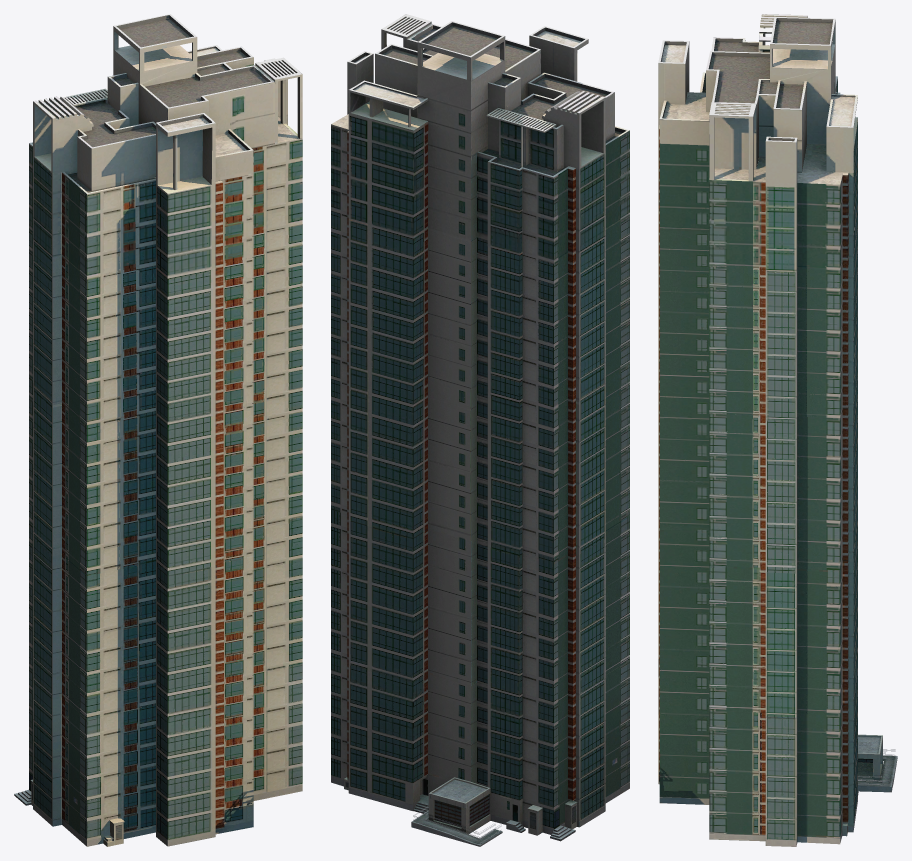
3 renders of one model, left to right at view 1: azimuth 30°, elevation 25°; view 2: azimuth 150°, elevation 25°; view 3: azimuth 270°, elevation 25°, orthographic.
Visible parts, largest first — view 1: Node_cc0600c5-2266-4843-bdce-ce5ddbbadb8f_0_5, Node_cc0600c5-2266-4843-bdce-ce5ddbbadb8f_0_3, Node_cc0600c5-2266-4843-bdce-ce5ddbbadb8f_0_4, Node_cc0600c5-2266-4843-bdce-ce5ddbbadb8f_0_2, Node_cc0600c5-2266-4843-bdce-ce5ddbbadb8f_0_1; view 2: Node_cc0600c5-2266-4843-bdce-ce5ddbbadb8f_0_5, Node_cc0600c5-2266-4843-bdce-ce5ddbbadb8f_0_3, Node_cc0600c5-2266-4843-bdce-ce5ddbbadb8f_0_4, Node_cc0600c5-2266-4843-bdce-ce5ddbbadb8f_0_2, Node_cc0600c5-2266-4843-bdce-ce5ddbbadb8f_0_1, Node_cc0600c5-2266-4843-bdce-ce5ddbbadb8f_0_0; view 3: Node_cc0600c5-2266-4843-bdce-ce5ddbbadb8f_0_5, Node_cc0600c5-2266-4843-bdce-ce5ddbbadb8f_0_3, Node_cc0600c5-2266-4843-bdce-ce5ddbbadb8f_0_4, Node_cc0600c5-2266-4843-bdce-ce5ddbbadb8f_0_2, Node_cc0600c5-2266-4843-bdce-ce5ddbbadb8f_0_1.
Boxes of the visible parts, x1,y1,x2,y2 form: Node_cc0600c5-2266-4843-bdce-ce5ddbbadb8f_0_5: (29, 14, 302, 277); Node_cc0600c5-2266-4843-bdce-ce5ddbbadb8f_0_3: (29, 370, 302, 575); Node_cc0600c5-2266-4843-bdce-ce5ddbbadb8f_0_4: (29, 222, 302, 425); Node_cc0600c5-2266-4843-bdce-ce5ddbbadb8f_0_2: (29, 520, 302, 719); Node_cc0600c5-2266-4843-bdce-ce5ddbbadb8f_0_1: (14, 664, 302, 846); Node_cc0600c5-2266-4843-bdce-ce5ddbbadb8f_0_5: (331, 14, 629, 261); Node_cc0600c5-2266-4843-bdce-ce5ddbbadb8f_0_3: (331, 357, 629, 562); Node_cc0600c5-2266-4843-bdce-ce5ddbbadb8f_0_4: (331, 208, 629, 410); Node_cc0600c5-2266-4843-bdce-ce5ddbbadb8f_0_2: (331, 509, 629, 707); Node_cc0600c5-2266-4843-bdce-ce5ddbbadb8f_0_1: (331, 654, 629, 846); Node_cc0600c5-2266-4843-bdce-ce5ddbbadb8f_0_0: (413, 806, 501, 843); Node_cc0600c5-2266-4843-bdce-ce5ddbbadb8f_0_5: (658, 14, 857, 271); Node_cc0600c5-2266-4843-bdce-ce5ddbbadb8f_0_3: (658, 358, 857, 573); Node_cc0600c5-2266-4843-bdce-ce5ddbbadb8f_0_4: (658, 209, 857, 421); Node_cc0600c5-2266-4843-bdce-ce5ddbbadb8f_0_2: (658, 510, 857, 718); Node_cc0600c5-2266-4843-bdce-ce5ddbbadb8f_0_1: (658, 655, 897, 846).
Bounding box in the file's own units: 35.81 × 107 × 30.76.
Materials: 6 (6 with a texture image).
